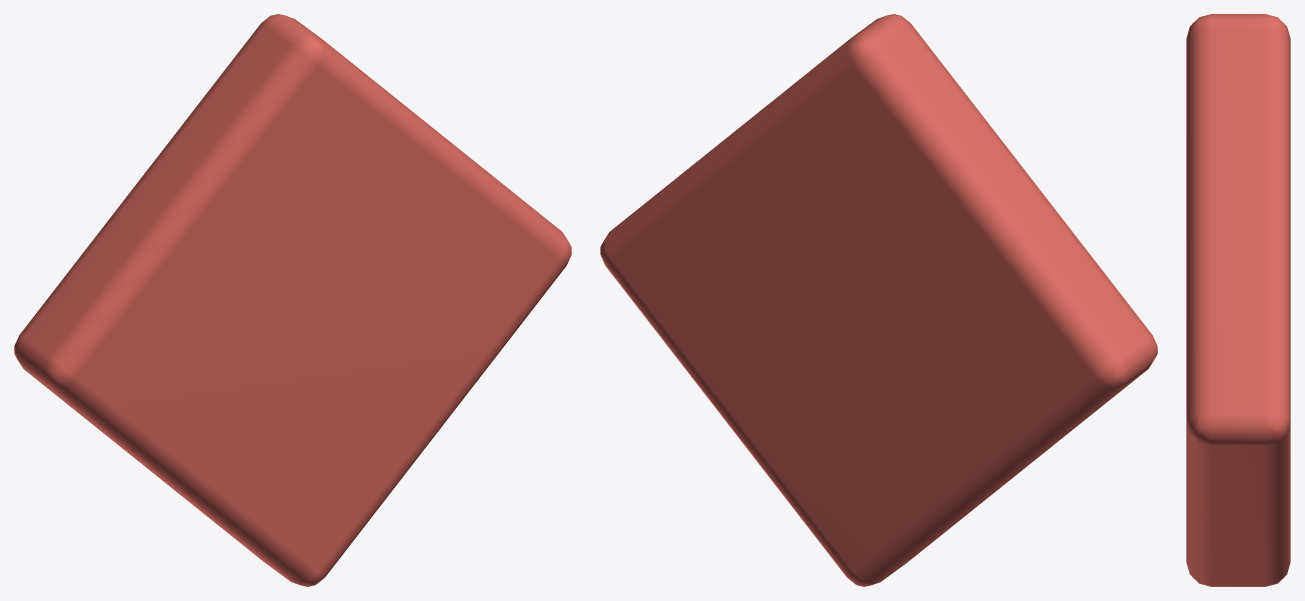
File: shape-rhombus-red.glb
3 views of the same model, side by side, from view 1: azimuth 30°, elevation 25°; view 2: azimuth 150°, elevation 25°; view 3: azimuth 270°, elevation 25° (orthographic). The views are drawn at different scales.
Visible parts, largest first — view 1: solid rhombus; view 2: solid rhombus; view 3: solid rhombus.
Boxes of the visible parts, x1,y1,x2,y2 form: solid rhombus: (14, 14, 571, 586); solid rhombus: (600, 14, 1157, 586); solid rhombus: (1186, 14, 1290, 586).
Size of the model in its own units: 1.5 by 1.5 by 0.25.
